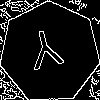Y: (25, 27, 68, 80)
